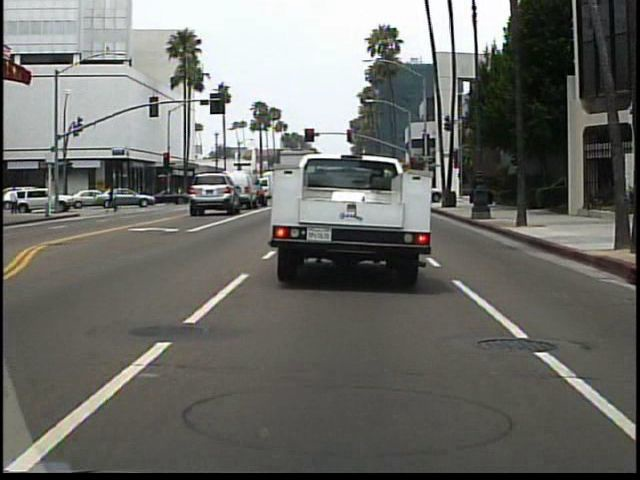person: (9, 182, 25, 216)
